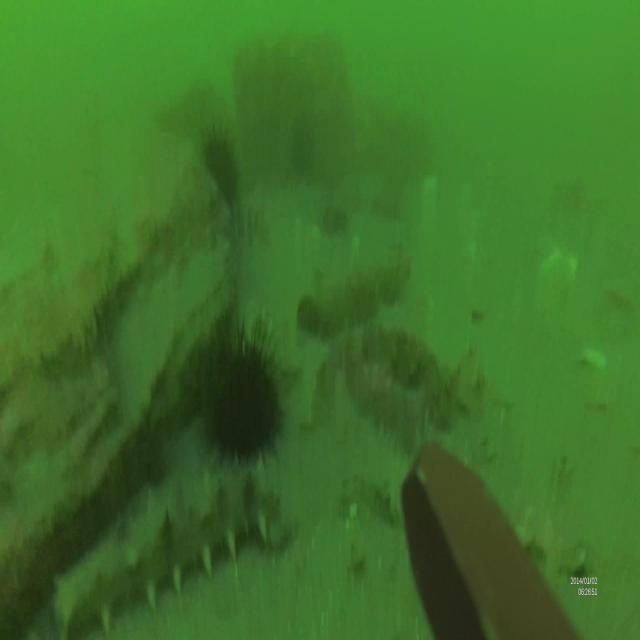echinus: (206, 316, 286, 468), (201, 123, 239, 204)
holothurian: (52, 475, 280, 636)
